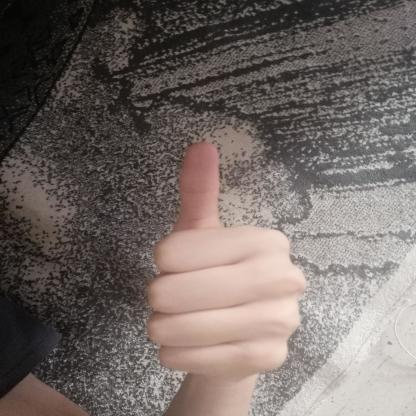ALIF: (128, 135, 317, 385)
